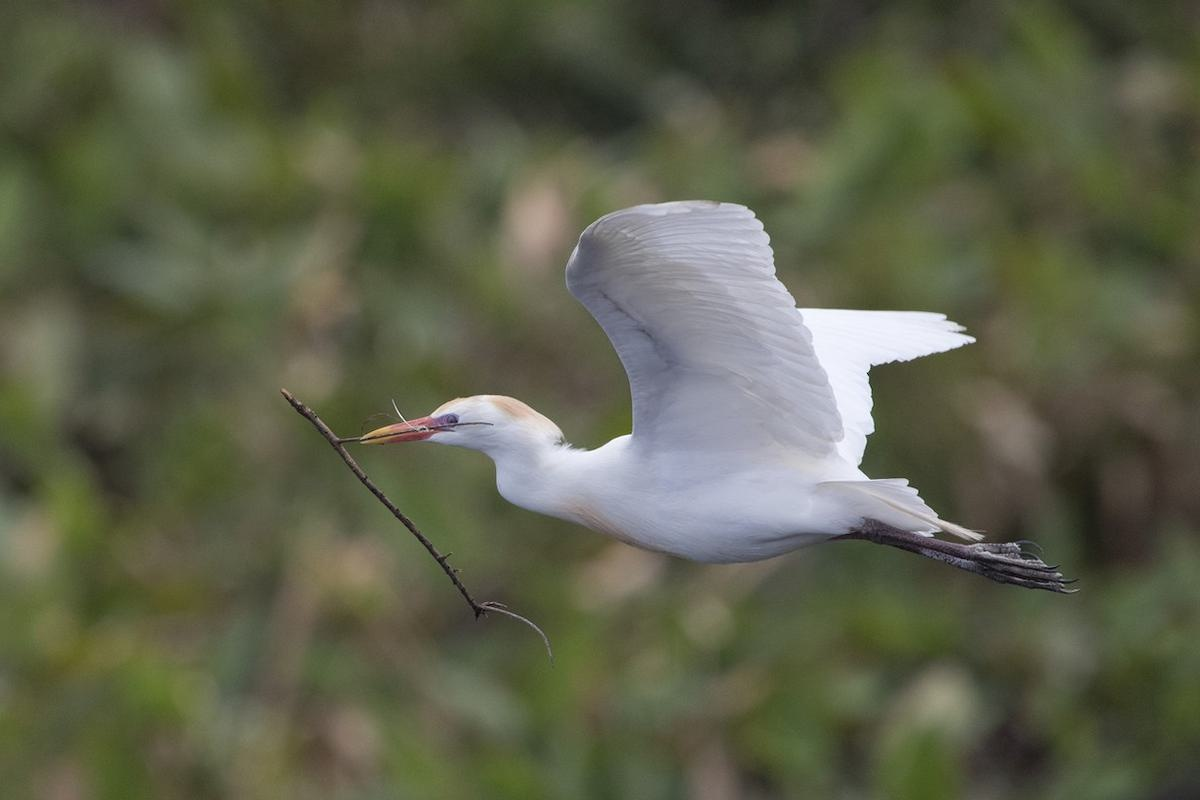egret: (345, 186, 1104, 602)
